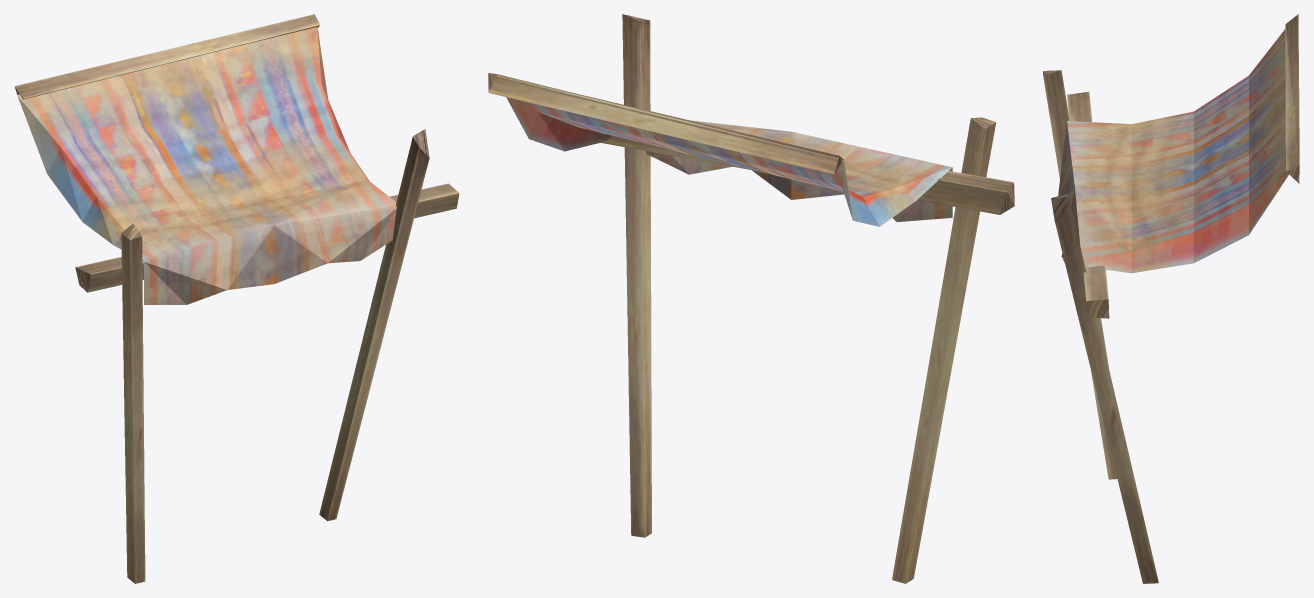
Rendered from C2SMCANOPYH.obj.
The picture shows the model from 3 angles, left to right: view 1: azimuth 30°, elevation 25°; view 2: azimuth 150°, elevation 25°; view 3: azimuth 270°, elevation 25°; orthographic projection. The views are drawn at different scales.
Visible parts, largest first — view 1: Node 0; view 2: Node 0; view 3: Node 0.
Part boxes in pixels (x1=…): Node 0: x1=14, y1=14, x2=459, y2=583; Node 0: x1=488, y1=14, x2=1014, y2=583; Node 0: x1=1043, y1=14, x2=1299, y2=583.
Size of the model in its own units: 6.83 by 7.46 by 3.88.
Materials: 2 (2 with a texture image).
